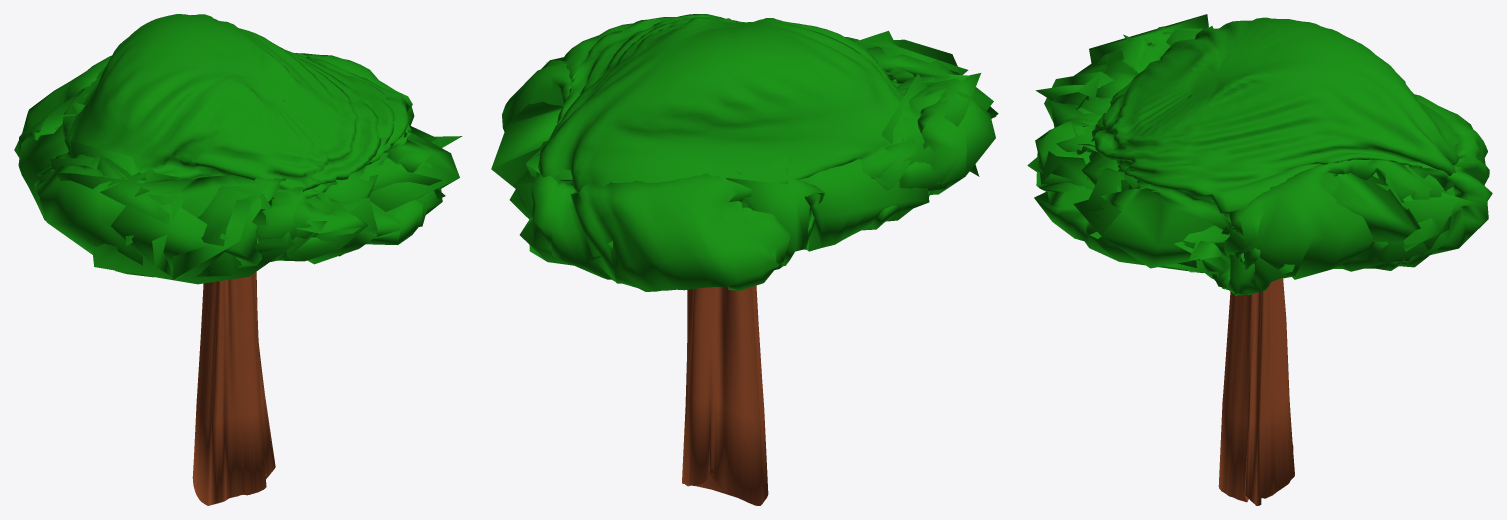
File: wood1.glb
The picture shows the model from 3 angles, left to right: view 1: azimuth 30°, elevation 25°; view 2: azimuth 150°, elevation 25°; view 3: azimuth 270°, elevation 25°; orthographic projection. The views are drawn at different scales.
Parts seen in each view (by area): view 1: 球, 円柱; view 2: 球, 円柱; view 3: 球, 円柱.
Boxes of the visible parts, x1=… form: 球: x1=14, y1=14, x2=462, y2=284; 円柱: x1=192, y1=271, x2=275, y2=505; 球: x1=491, y1=14, x2=998, y2=291; 円柱: x1=682, y1=285, x2=768, y2=505; 球: x1=1027, y1=14, x2=1492, y2=295; 円柱: x1=1218, y1=278, x2=1294, y2=505.
Bounding box in the file's own units: 5.34 × 5.66 × 5.33.
